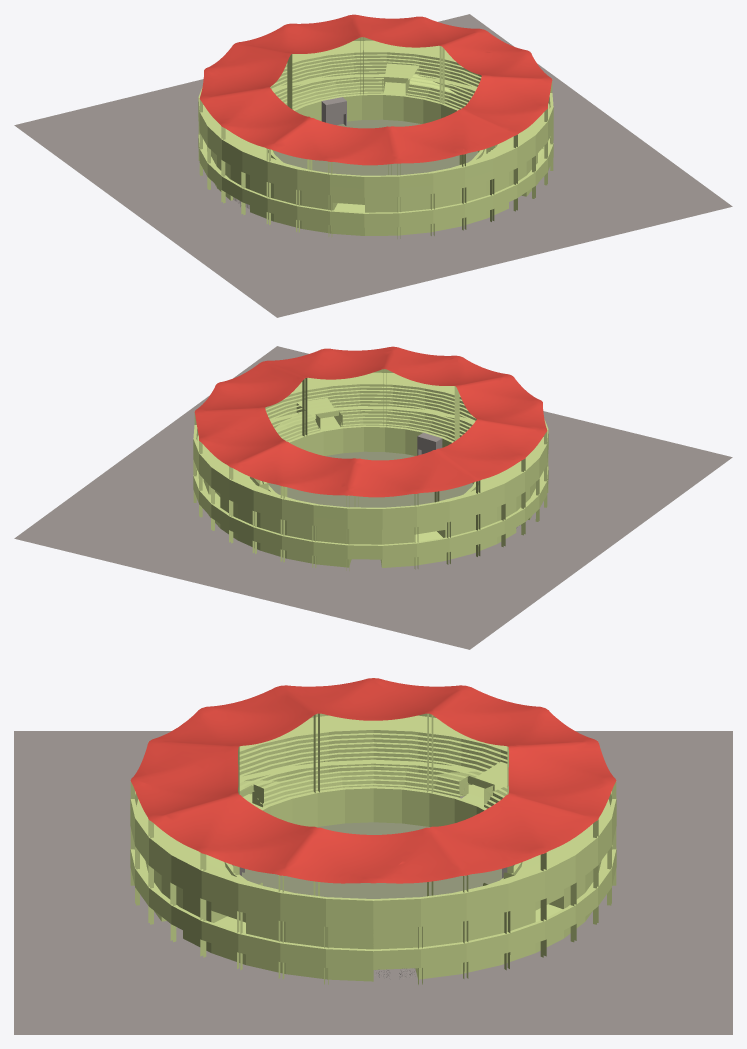
File: estadio.fbx
3 views of the same model, one above another, from view 1: azimuth 30°, elevation 25°; view 2: azimuth 150°, elevation 25°; view 3: azimuth 270°, elevation 25° (orthographic). The views are drawn at different scales.
Parts seen in each view (by area): view 1: Object_6, Object_7, Object_3, Cylinder, Object_2; view 2: Object_6, Object_7, Object_3, Cylinder; view 3: Object_6, Object_7, Object_3, Cylinder.
Part boxes in pixels (<box>): Object_6: <box>14,14,732,317</box>; Object_7: <box>198,37,553,238</box>; Object_3: <box>199,14,552,165</box>; Cylinder: <box>273,119,496,175</box>; Object_2: <box>321,97,346,125</box>; Object_6: <box>14,346,732,649</box>; Object_7: <box>193,369,548,570</box>; Object_3: <box>194,346,547,497</box>; Cylinder: <box>268,451,473,507</box>; Object_6: <box>14,731,732,1034</box>; Object_7: <box>130,678,616,984</box>; Object_3: <box>130,678,616,883</box>; Cylinder: <box>242,822,501,898</box>.
Size of the model in its own units: 7091 by 1272 by 7091.
